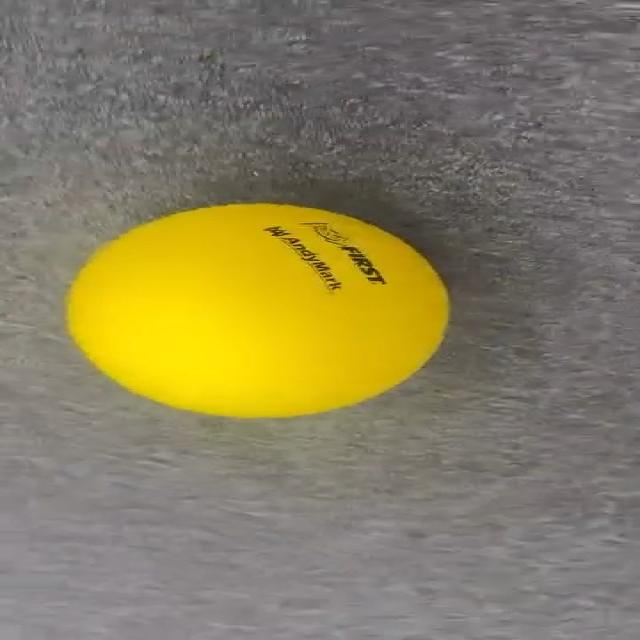Fuels: (68, 204, 446, 417), (68, 205, 446, 417)
